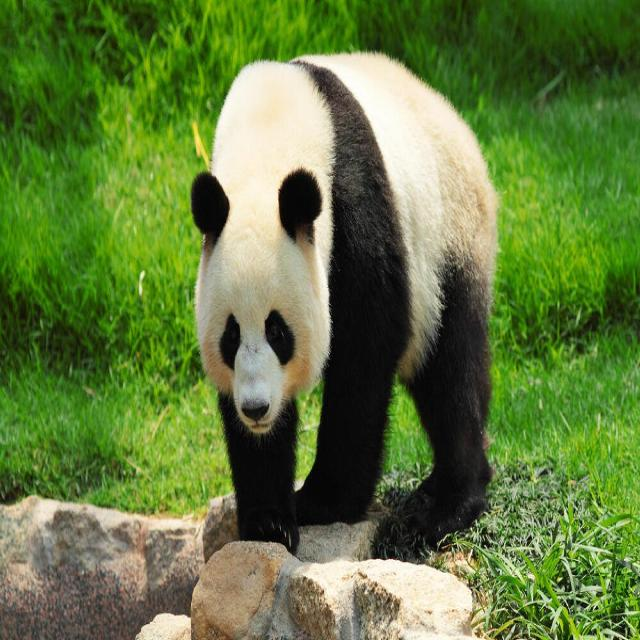Panda: (178, 27, 512, 560)
